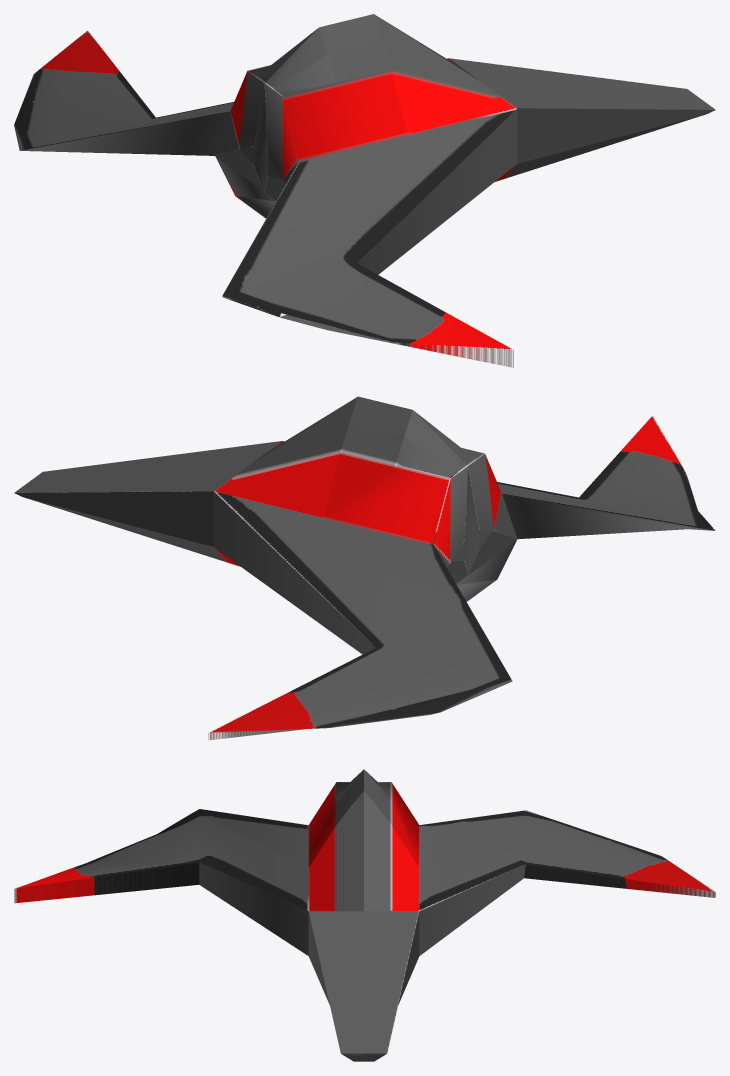
File: ship2.fbx
The picture shows the model from 3 angles, top to bottom: view 1: azimuth 30°, elevation 25°; view 2: azimuth 150°, elevation 25°; view 3: azimuth 270°, elevation 25°; orthographic projection. The views are drawn at different scales.
Visible parts, largest first — view 1: pCube1; view 2: pCube1; view 3: pCube1.
Boxes of the visible parts, left/top/right/bottom form: pCube1: left=14, top=14, right=715, bottom=367; pCube1: left=14, top=396, right=715, bottom=740; pCube1: left=14, top=769, right=715, bottom=1061.
Size of the model in its own units: 10.13 by 3 by 13.1.
1 material, 1 textured.
